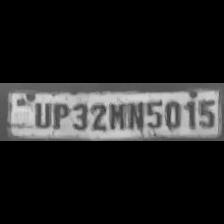0: (162, 98, 182, 130)
1: (182, 98, 198, 130)
2: (89, 100, 107, 132)
3: (70, 99, 89, 130)
5: (196, 96, 216, 130), (142, 98, 162, 130)
M: (106, 99, 126, 130)
N: (126, 99, 144, 130)
P: (50, 100, 68, 130)
U: (30, 100, 50, 128)
